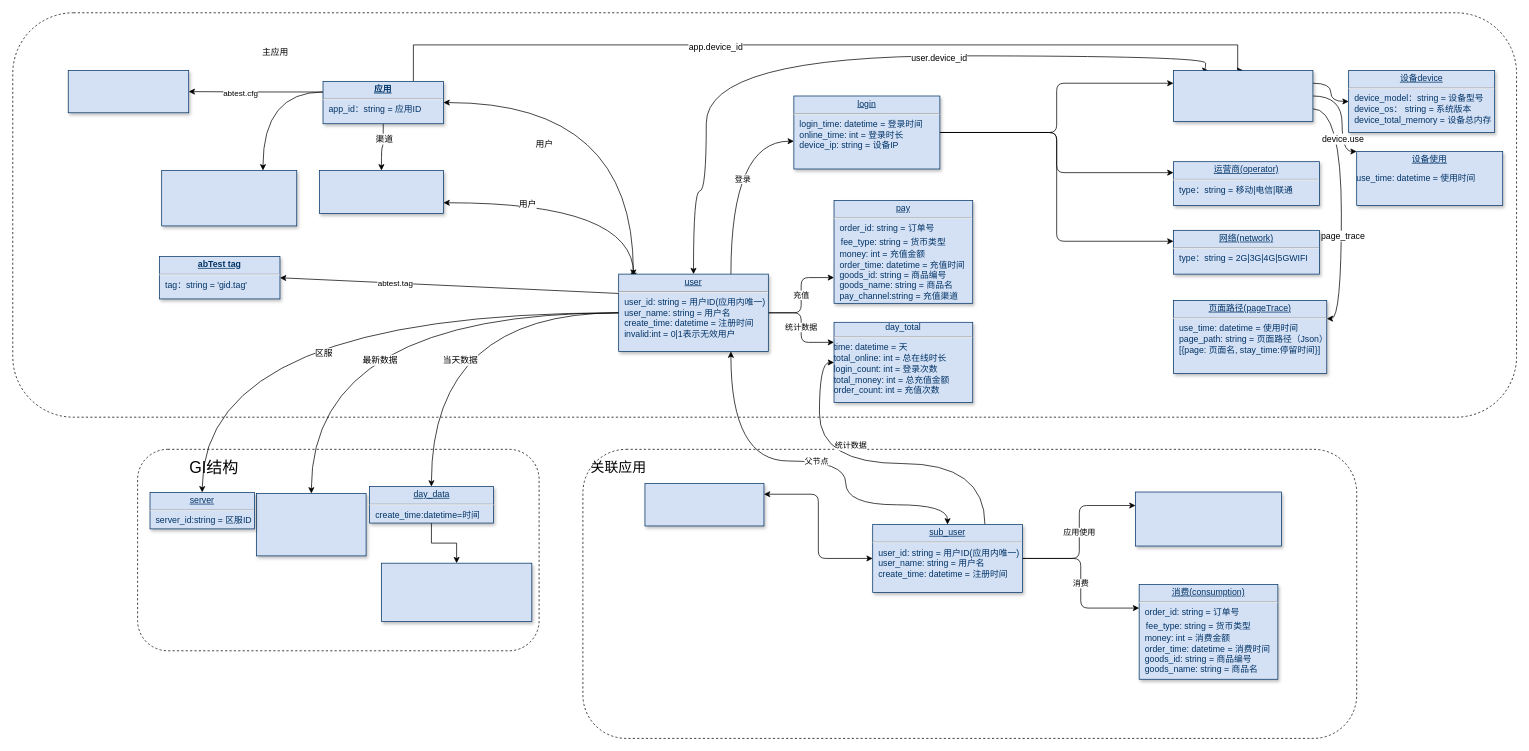
Image size: 1529x751. Some labels were removed from this diagram. The shapes that lost their labels are listed below. From the top down, each one's centre as x and y in pixels, then its label:
At point (129, 92): "abTest Cfg cfg：string = 配置".
At point (1243, 97): "deviceID device_num：string = 设备ID create_time: datetime = 创建时间".
At point (229, 199): "app.online time_m: datetime = 采集时间(分) online_num: int = 在线人数".
At point (382, 193): "channel channel_id：string = 渠道ID".
At point (311, 525): "new_data k: string = 关键key v: string = 值 time:datetime = 修改时间".
At point (704, 505): "关联应用(sub_app) sub_app_id：string = 应用ID".
At point (1209, 519): "使用(use) use_time: datetime = 使用时间 online_time: int = 使用时长".
At point (457, 593): "data k: string = 关键key v: string = 值(TODO 去掉变化值) total: string = 最终值".
